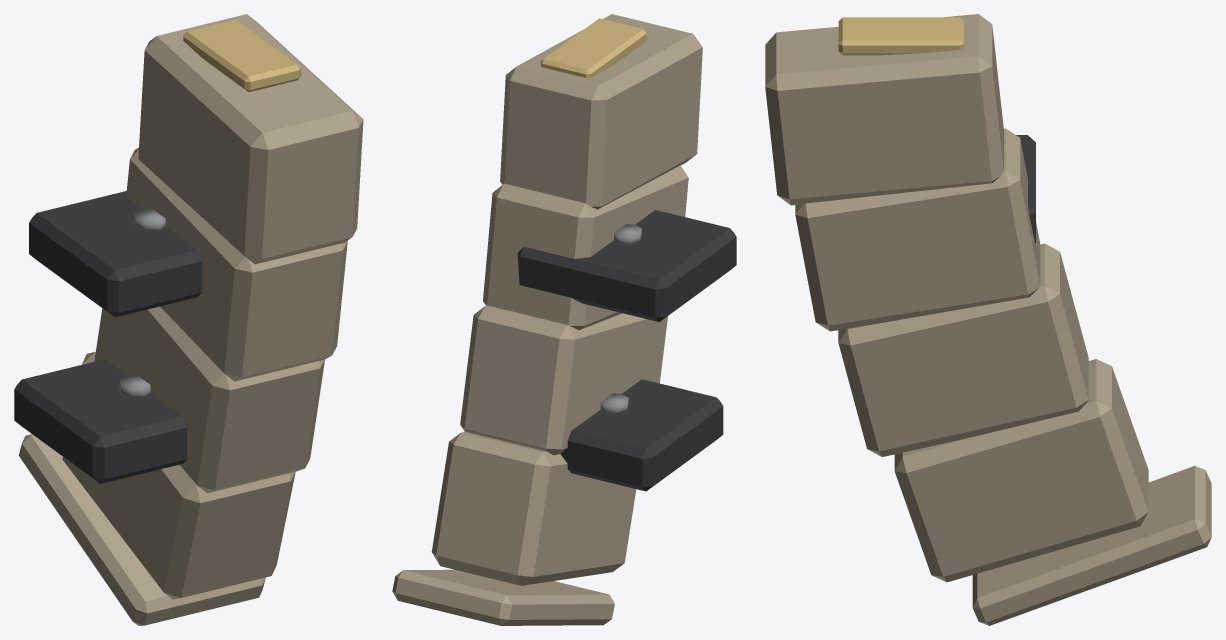
File: part_zasobnik_r.glb
The picture shows the model from 3 angles, left to right: view 1: azimuth 30°, elevation 25°; view 2: azimuth 150°, elevation 25°; view 3: azimuth 270°, elevation 25°; orthographic projection. The views are drawn at different scales.
Parts seen in each view (by area): view 1: Zasobnik_r; view 2: Zasobnik_r; view 3: Zasobnik_r.
Boxes of the visible parts, x1,y1,x2,y2 form: Zasobnik_r: (14, 14, 363, 625); Zasobnik_r: (392, 14, 736, 625); Zasobnik_r: (765, 14, 1211, 625).
Size of the model in its own units: 0.0563 by 0.1517 by 0.1076.
